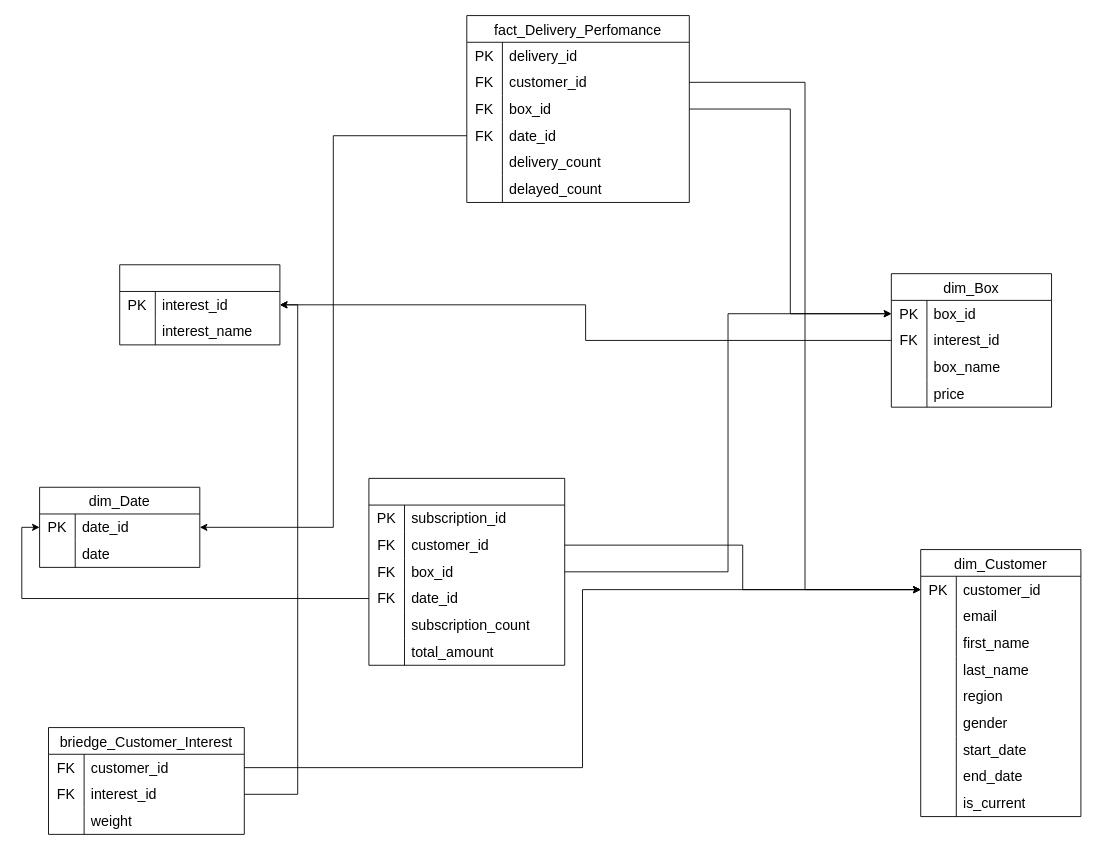
The diagram is 1096 pixels wide and 850 high, and some of its shapes have lost their labels. Here are the shapes that lost their labels. From the top down, the box of each, then its label:
(119, 264, 280, 345): dim_Interest
(368, 477, 565, 665): fact_Subscription
